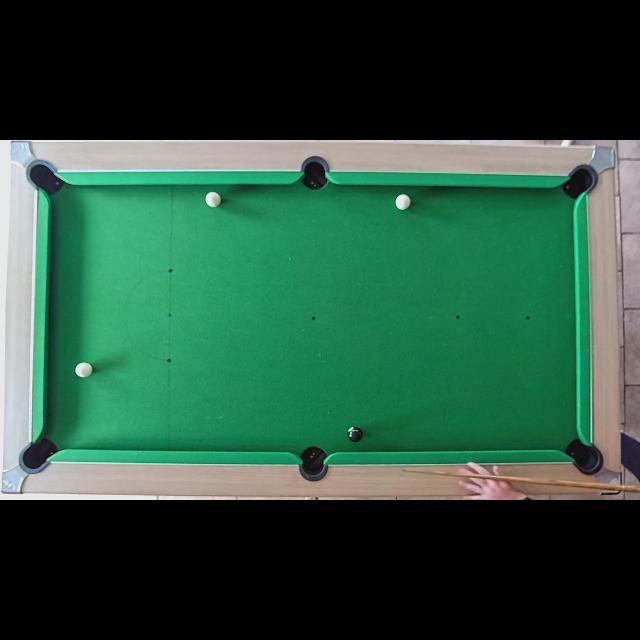Ball: (76, 362, 92, 378), (347, 426, 363, 442), (206, 192, 220, 208), (396, 196, 410, 210)
